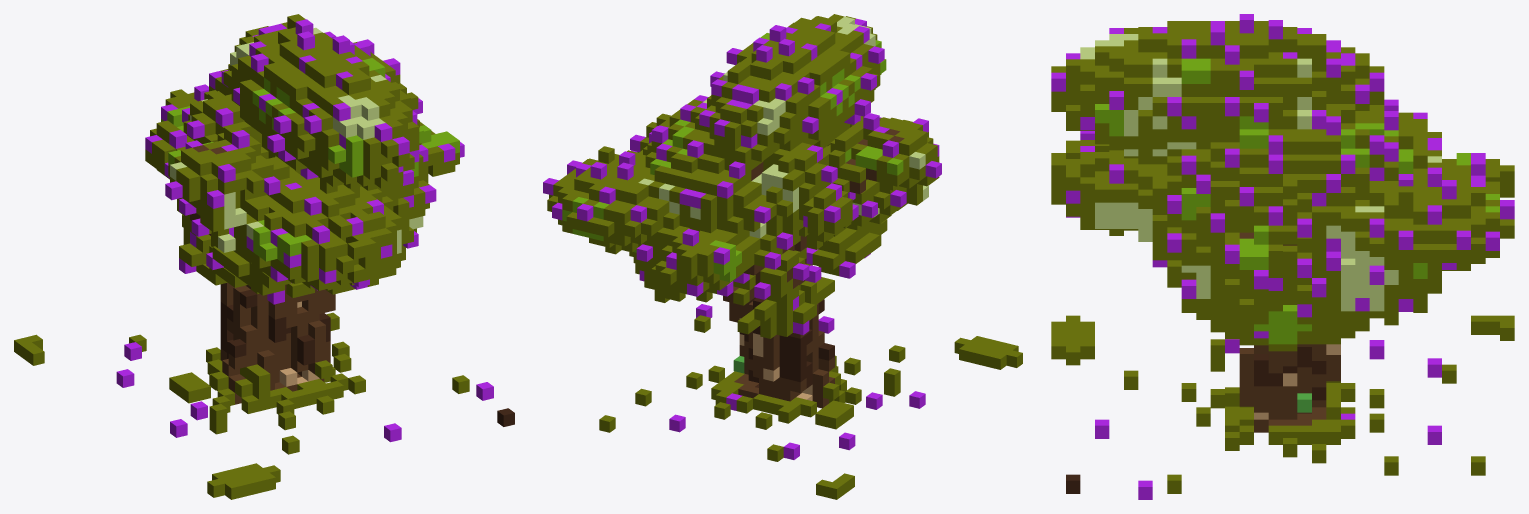
Rendered from Liseth_Tatiana_Castro_Rodríguez_fase_4.obj.
The picture shows the model from 3 angles, left to right: view 1: azimuth 30°, elevation 25°; view 2: azimuth 150°, elevation 25°; view 3: azimuth 270°, elevation 25°; orthographic projection. The views are drawn at different scales.
Parts seen in each view (by area): view 1: Liseth_Tatiana_Castro_Rodríguez_fase_4; view 2: Liseth_Tatiana_Castro_Rodríguez_fase_4; view 3: Liseth_Tatiana_Castro_Rodríguez_fase_4.
Boxes of the visible parts, x1,y1,x2,y2 form: Liseth_Tatiana_Castro_Rodríguez_fase_4: [14, 14, 514, 499]; Liseth_Tatiana_Castro_Rodríguez_fase_4: [543, 14, 1022, 499]; Liseth_Tatiana_Castro_Rodríguez_fase_4: [1051, 14, 1514, 499].
Bounding box in the file's own units: 30 × 31 × 32.
Materials: 1 (1 with a texture image).
